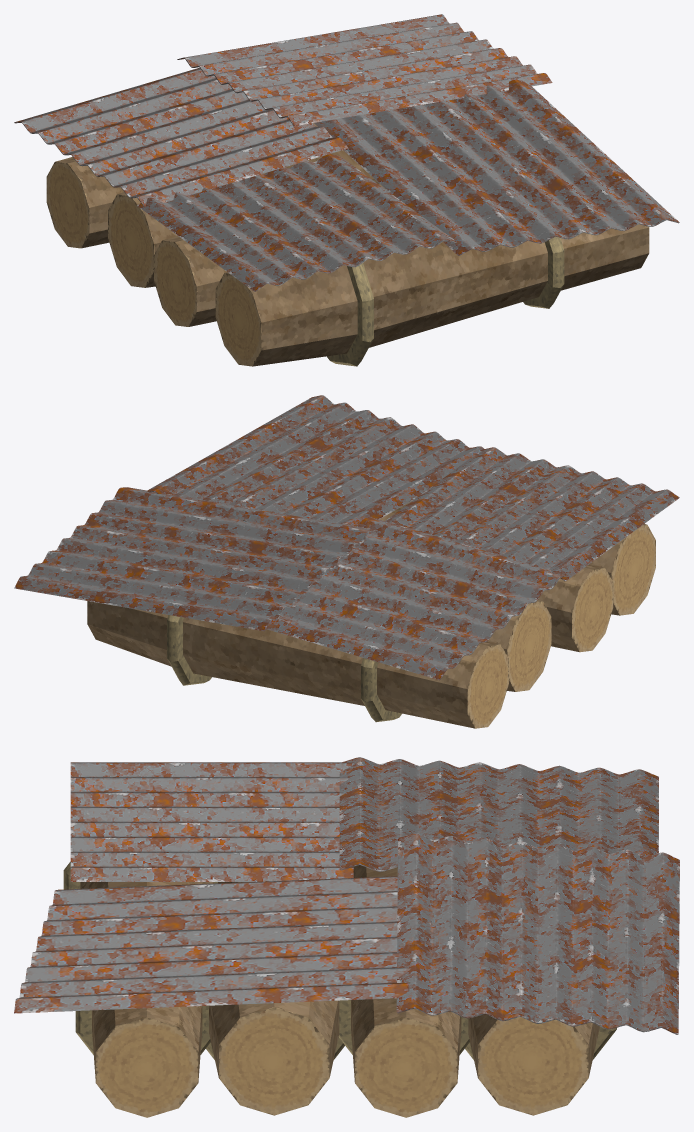
File: steel_raft.fbx
3 views of the same model, one above another, from view 1: azimuth 30°, elevation 25°; view 2: azimuth 150°, elevation 25°; view 3: azimuth 270°, elevation 25° (orthographic). The views are drawn at different scales.
Parts seen in each view (by area): view 1: steel_raft; view 2: steel_raft; view 3: steel_raft.
Part boxes in pixels (<box>): steel_raft: <box>14,14,679,366</box>; steel_raft: <box>14,395,679,728</box>; steel_raft: <box>14,757,679,1117</box>.
Bounding box in the file's own units: 80.09 × 26.53 × 88.23.
